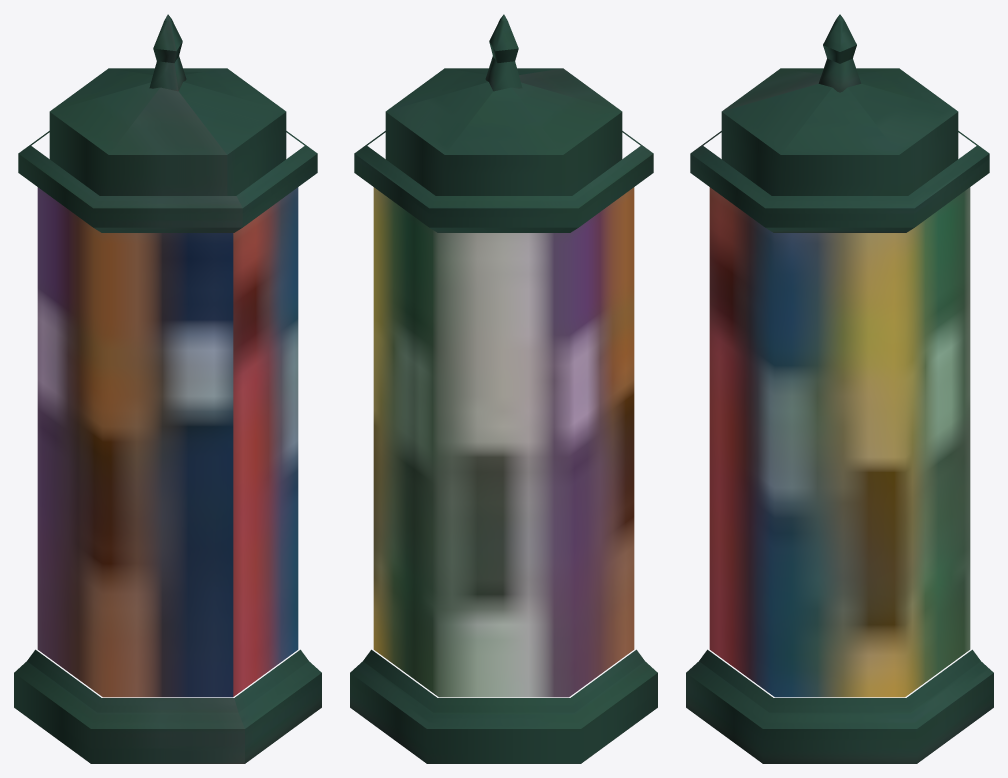
The model's file is colonne_morris_lod2.glb.
The picture shows the model from 3 angles, left to right: view 1: azimuth 30°, elevation 25°; view 2: azimuth 150°, elevation 25°; view 3: azimuth 270°, elevation 25°; orthographic projection.
Parts seen in each view (by area): view 1: colonne_morris; view 2: colonne_morris; view 3: colonne_morris.
Part boxes in pixels (x1,y1,x2,y2): colonne_morris: (14,14,321,763); colonne_morris: (350,14,657,763); colonne_morris: (686,14,993,763).
Size of the model in its own units: 1.25 by 3.58 by 1.44.
Materials: 1 (1 with a texture image).
